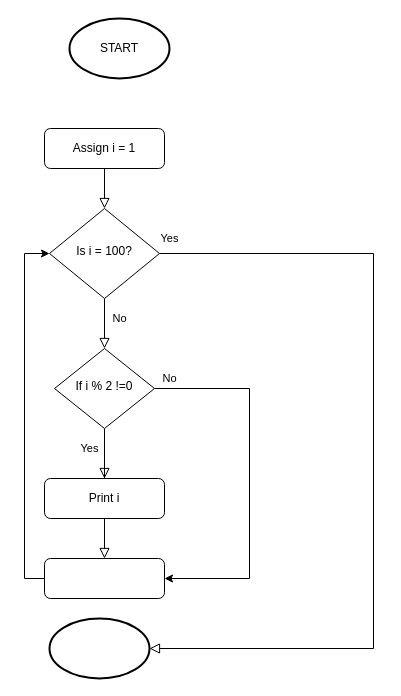
This 401x696 diagram has some shape labels left out. The centre of each missing label's shape, as x and y in pixels:
"End" goes at point (99, 648).
"i = i + 1" goes at point (104, 578).
